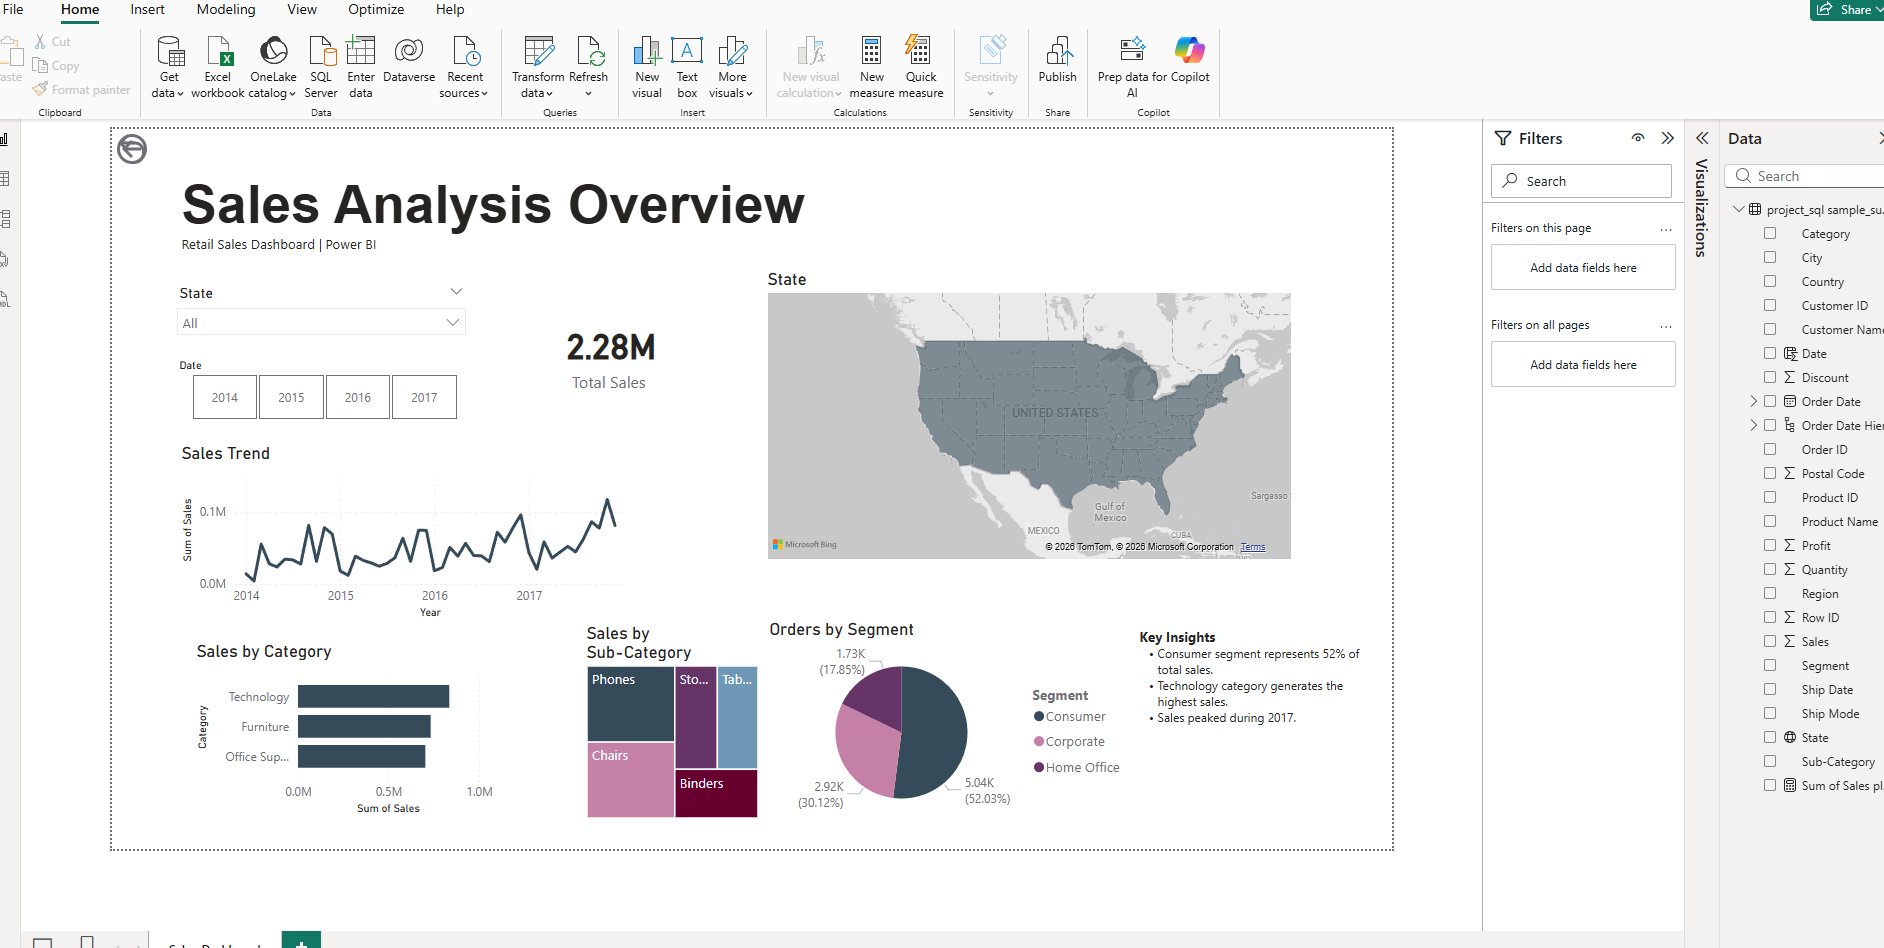

The dashboard page shown, as its layout file describes it:
{"tool":"powerbi","page":{"name":"Sales_Dashboard","canvas":[1280,720],"ordinal":0},"visuals":[{"type":"clusteredBarChart","title":" Sales by Category","fields":{"Y":["Sum(project_sql sample_superstore.Sales)"],"Category":["project_sql sample_superstore.Category"]},"box":[80,512,306,178],"z":0},{"type":"pieChart","title":"Orders by Segment","fields":{"Y":["CountNonNull(project_sql sample_superstore.Order ID)"],"Category":["project_sql sample_superstore.Segment"]},"box":[653,490,370,208],"z":1000},{"type":"treemap","title":" Sales by Sub-Category","fields":{"Group":["project_sql sample_superstore.Sub-Category"],"Values":["Sum(project_sql sample_superstore.Sales)"]},"box":[470,494,181,200],"z":2000},{"type":"filledMap","fields":{"Category":["project_sql sample_superstore.State"]},"box":[651,140,533,295],"z":3000},{"type":"slicer","fields":{"Values":["project_sql sample_superstore.State"]},"box":[55,151,309,64],"z":4000},{"type":"actionButton","box":[0,0,100,40],"z":5000},{"type":"lineChart","title":"Sales Trend","fields":{"Y":["Sum(project_sql sample_superstore.Sales)"],"Category":["project_sql sample_superstore.Order Date.Variation.Date Hierarchy.Year","project_sql sample_superstore.Order Date.Variation.Date Hierarchy.Month"]},"box":[65,314,456,180],"z":7000},{"type":"card","fields":{"Values":["project_sql sample_superstore.Sum of Sales plus Count of Category"]},"box":[386,136,226,178],"z":8000},{"type":"textbox","box":[65,40,773,88],"z":9000},{"type":"actionButton","box":[0,0,100,40],"z":10000},{"type":"slicer","fields":{"Values":["project_sql sample_superstore.Date"]},"box":[55,225,314,72],"z":10001},{"type":"textbox","box":[1023,494,244,208],"z":10002}]}

Visuals, with their boxes on the page's 1280x720 design canvas (x1, y1, x2, y2). These are canvas units, not pixel positions in the 1884x948 screenshot, which may show the page scaled, cropped or inside an application window:
" Sales by Category" clusteredBarChart: bbox=(80, 512, 386, 690)
"Orders by Segment" pieChart: bbox=(653, 490, 1023, 698)
" Sales by Sub-Category" treemap: bbox=(470, 494, 651, 694)
filledMap - project_sql sample_superstore.State: bbox=(651, 140, 1184, 435)
slicer - project_sql sample_superstore.State: bbox=(55, 151, 364, 215)
actionButton: bbox=(0, 0, 100, 40)
"Sales Trend" lineChart: bbox=(65, 314, 521, 494)
card - project_sql sample_superstore.Sum of Sales plus Count of Category: bbox=(386, 136, 612, 314)
textbox: bbox=(65, 40, 838, 128)
actionButton: bbox=(0, 0, 100, 40)
slicer - project_sql sample_superstore.Date: bbox=(55, 225, 369, 297)
textbox: bbox=(1023, 494, 1267, 702)
